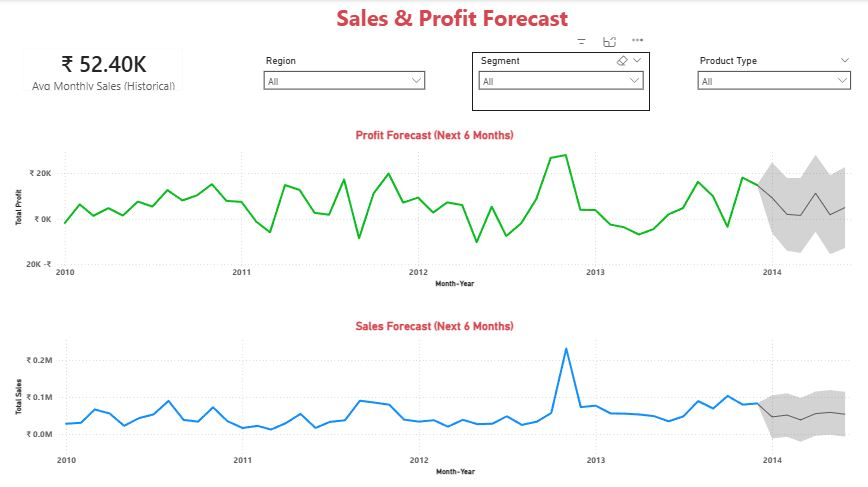

The dashboard page shown, as its layout file describes it:
{"tool":"powerbi","page":{"name":"Forecast","canvas":[1280,720],"ordinal":4},"visuals":[{"type":"lineChart","title":"Sales Forecast (Next 6 Months)","fields":{"Y":["Measure.Total Sales"],"Category":["Dim_Date.Month Start Date"]},"box":[19.1,470.2,1244.6,235.1],"z":0},{"type":"lineChart","title":"Profit Forecast (Next 6 Months)","fields":{"Category":["Dim_Date.Month Start Date"],"Y":["Measure.Total Profit"]},"box":[19.1,189.6,1244.6,239.5],"z":1000},{"type":"slicer","fields":{"Values":["Dim_Customer.Segment"]},"box":[696.5,77.9,261.6,86.7],"z":2000},{"type":"slicer","fields":{"Values":["Dim_Geography.Region"]},"box":[380.6,77.9,257.1,86.7],"z":3000},{"type":"slicer","fields":{"Values":["Dim_Product.Product Type"]},"box":[1018.3,77.9,245.4,86.7],"z":4000},{"type":"cardVisual","fields":{"Data":["Measure.Avg Monthly Sales (Historical)"]},"box":[19.1,55.8,270.4,97],"z":5000},{"type":"textbox","box":[42.6,0,1190.2,55.8],"z":6000}]}

Visuals, with their boxes in screenshot pixels (x1, y1, x2, y2), scaled from the page's 1280x720 canvas onto the 868x487 screenshot:
"Sales Forecast (Next 6 Months)" lineChart: [x1=13, y1=318, x2=857, y2=477]
"Profit Forecast (Next 6 Months)" lineChart: [x1=13, y1=128, x2=857, y2=290]
slicer - Dim_Customer.Segment: [x1=472, y1=53, x2=650, y2=111]
slicer - Dim_Geography.Region: [x1=258, y1=53, x2=432, y2=111]
slicer - Dim_Product.Product Type: [x1=691, y1=53, x2=857, y2=111]
cardVisual - Measure.Avg Monthly Sales (Historical): [x1=13, y1=38, x2=196, y2=103]
textbox: [x1=29, y1=0, x2=836, y2=38]
